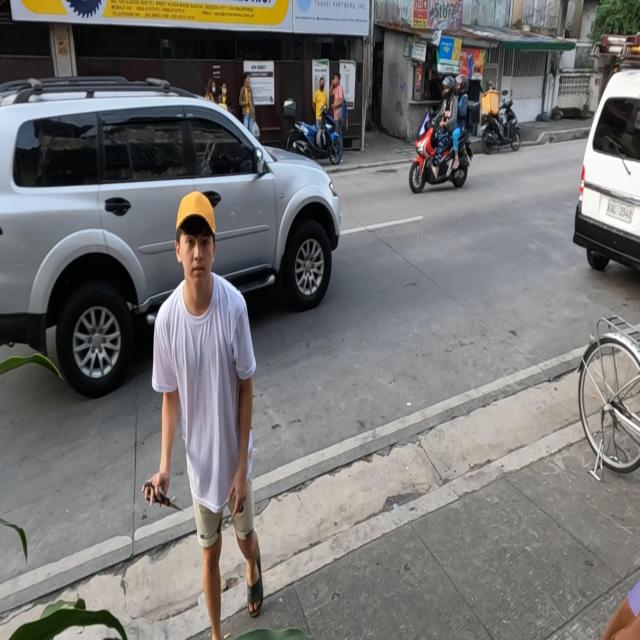scissor: (142, 477, 183, 514)
